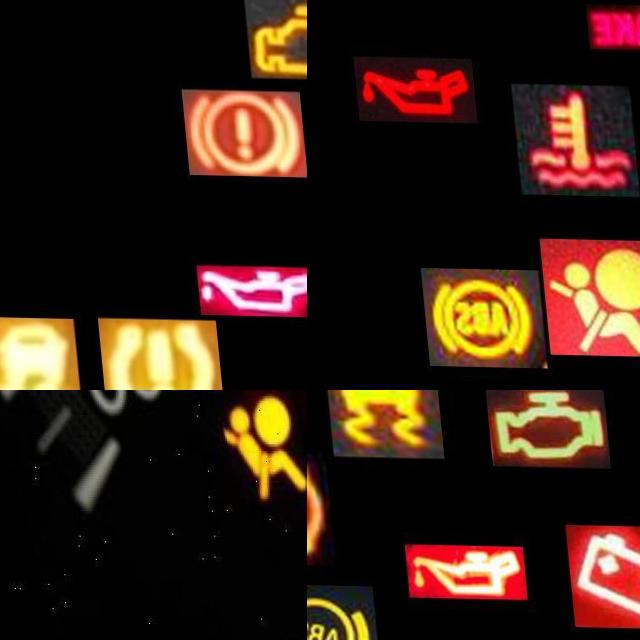Engine cooling system: (509, 83, 636, 196)
